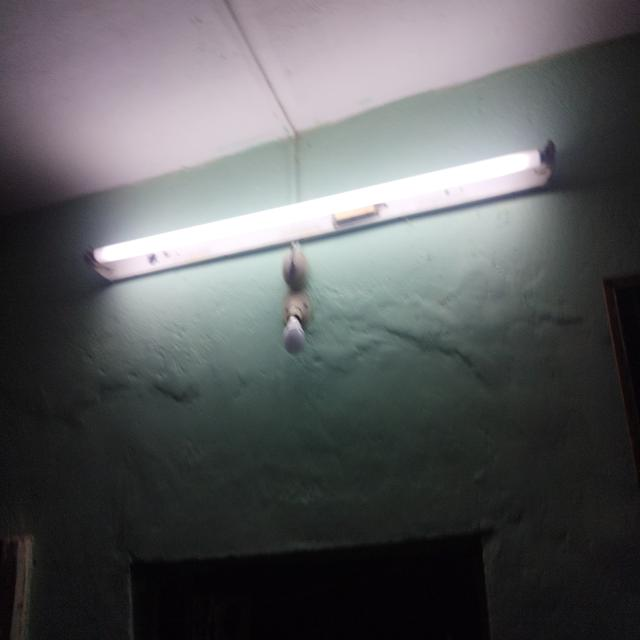tubelight_on: (89, 149, 554, 282)
